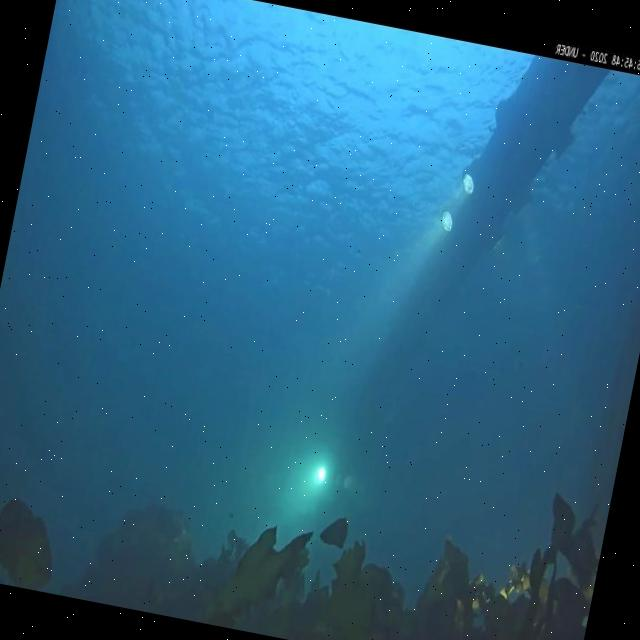fish: (317, 514, 352, 550)
